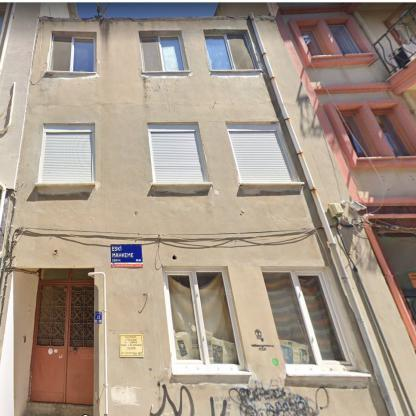door: (30, 282, 93, 404)
window: (262, 267, 353, 372), (163, 267, 246, 371), (366, 203, 416, 342), (226, 124, 298, 182), (147, 125, 208, 182), (39, 126, 94, 181), (371, 109, 414, 156), (205, 32, 257, 70), (337, 112, 378, 158), (141, 34, 187, 72), (50, 34, 95, 72), (299, 23, 330, 56), (328, 25, 362, 54), (41, 269, 94, 281)
